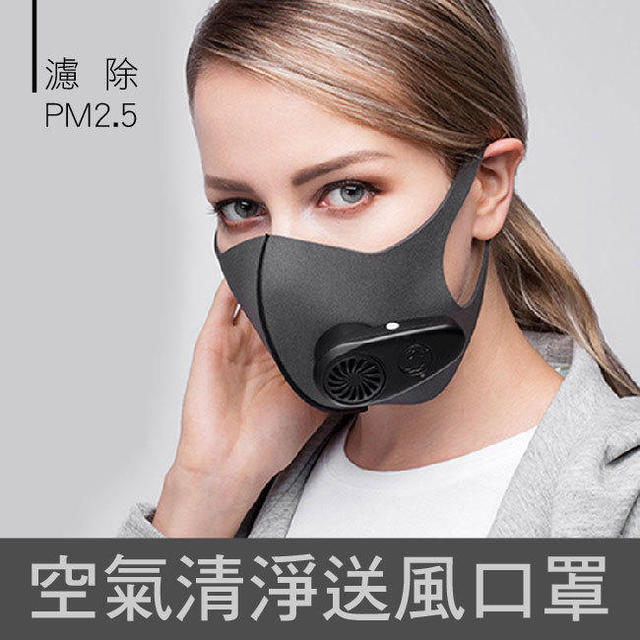mask: (219, 249, 478, 412)
